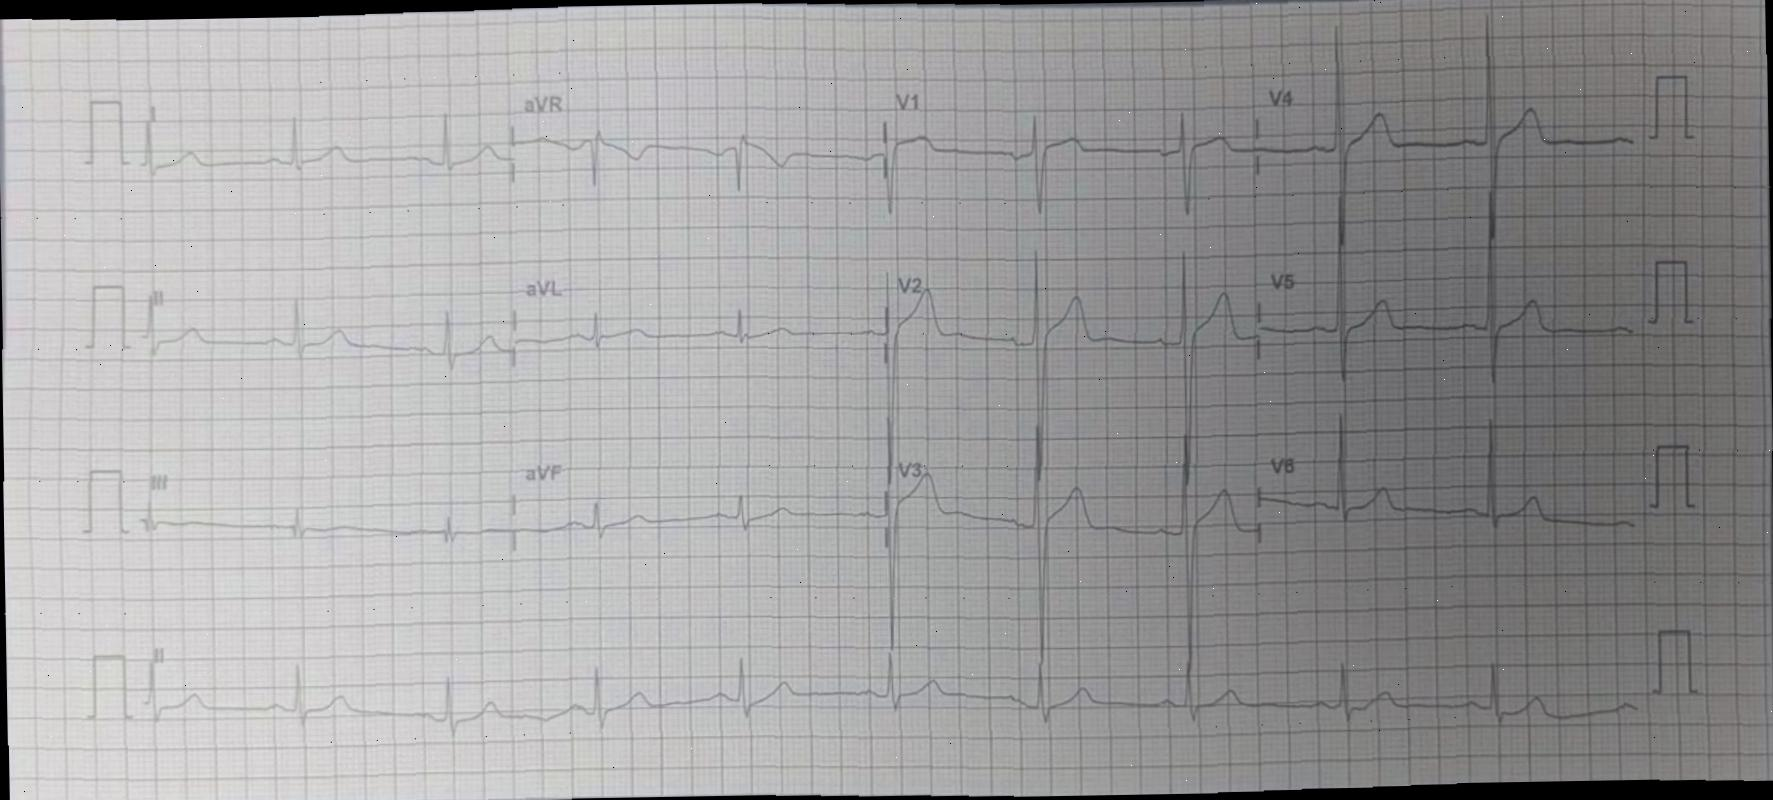Lead_I: (129, 81, 511, 209)
Lead_II: (131, 264, 513, 406)
Lead_III: (130, 451, 516, 585)
Lead_V1: (882, 63, 1257, 233)
Lead_V2: (882, 246, 1262, 485)
Lead_V3: (885, 408, 1263, 684)
Lead_V4: (1254, 0, 1637, 252)
Lead_V5: (1256, 176, 1640, 401)
Lead_V6: (131, 602, 1645, 776), (1260, 384, 1644, 581)
Lead_aVF: (510, 443, 884, 585)
Lead_aVL: (518, 252, 886, 401)
Lead_aVR: (510, 69, 881, 226)
